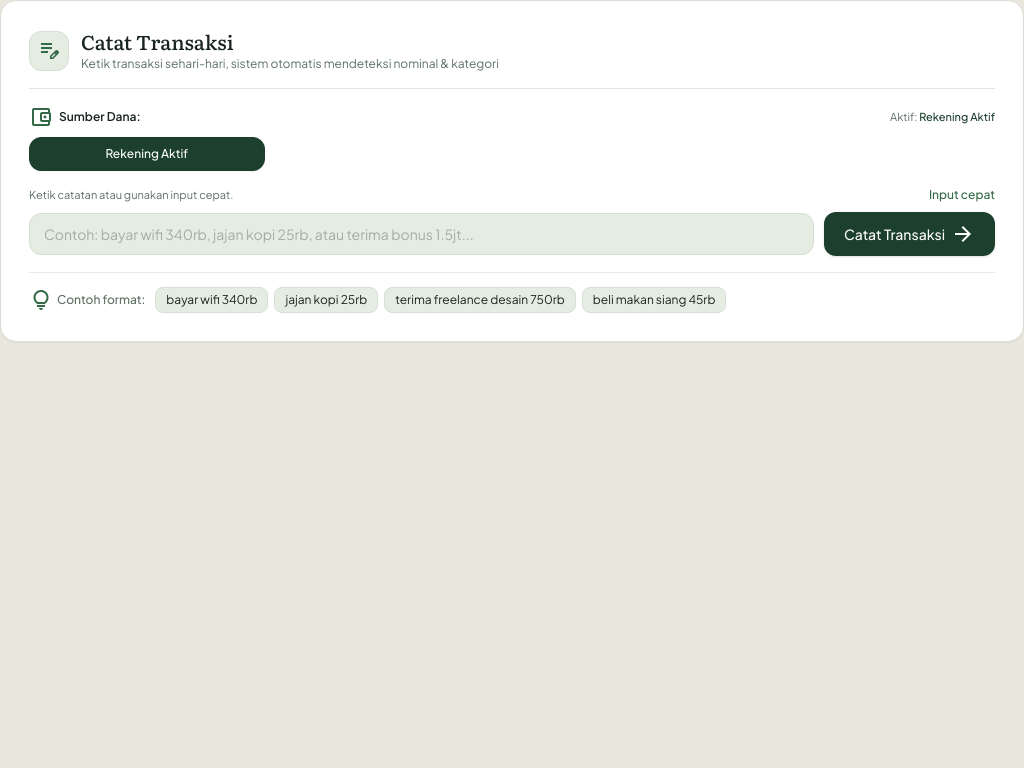
Test case: CatatTransaksiSection save flow › uses the local parser only when the application rate limit is reached
The width and height of the screenshot is (1024, 768).
Step 1. Type "bayar wifi 340rb" into the field with placeholder "Contoh: bayar wifi" → point(422, 234), box [29, 212, 814, 254]
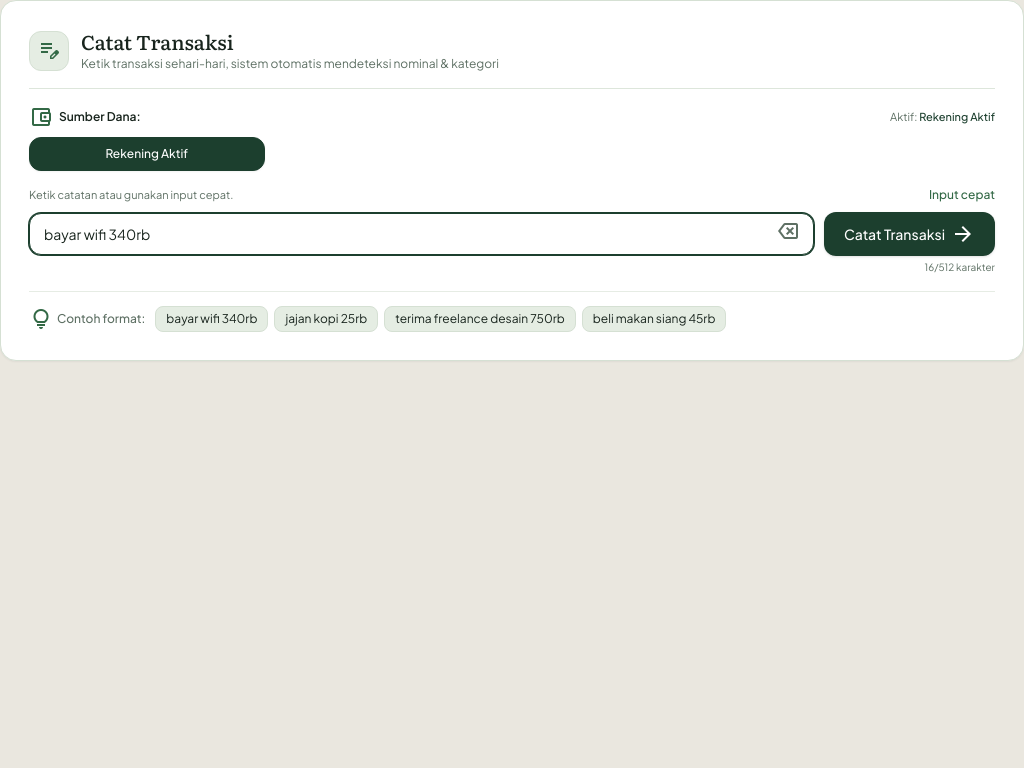
Step 2. Click the button "Catat Transaksi" → point(910, 234), box [824, 212, 995, 256]
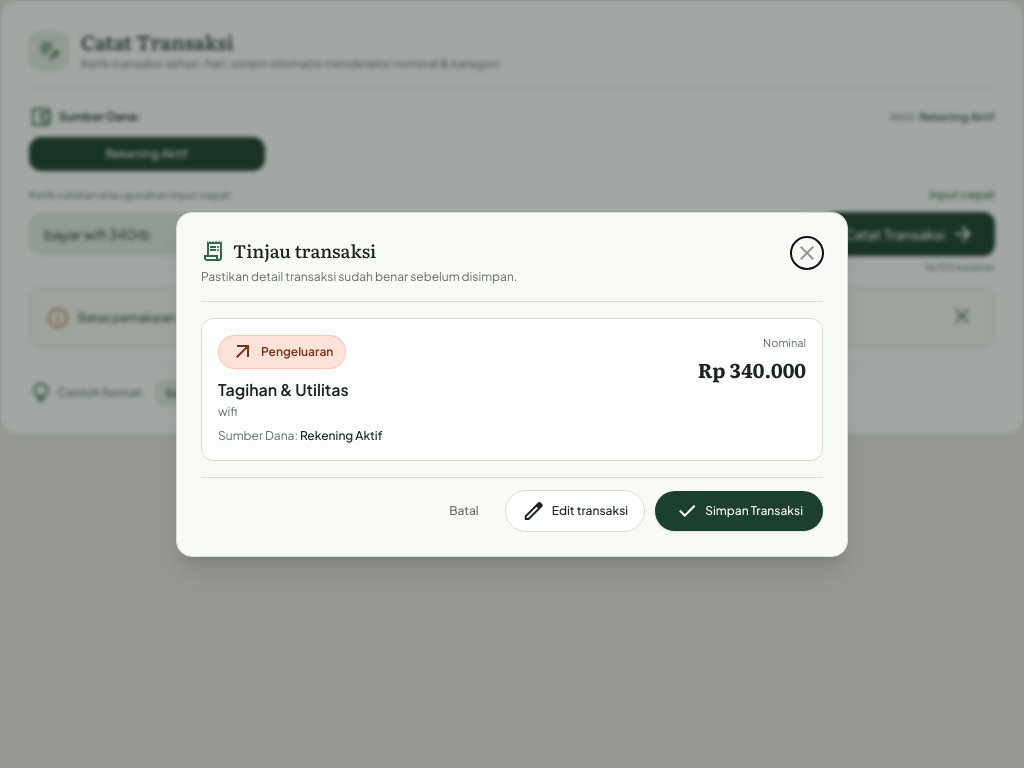
Check: the heading "Tagihan & Utilitas" is shown, box [218, 378, 349, 400]
Check: the text "Batas pemakaian AI tercapai" is shown, box [78, 310, 627, 325]
